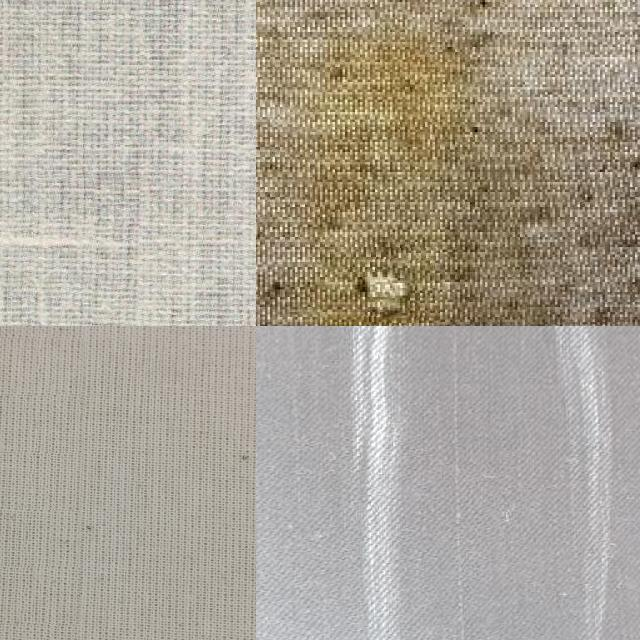other: (338, 245, 440, 326)
stains: (0, 326, 85, 640), (0, 169, 139, 326), (436, 326, 501, 640)
